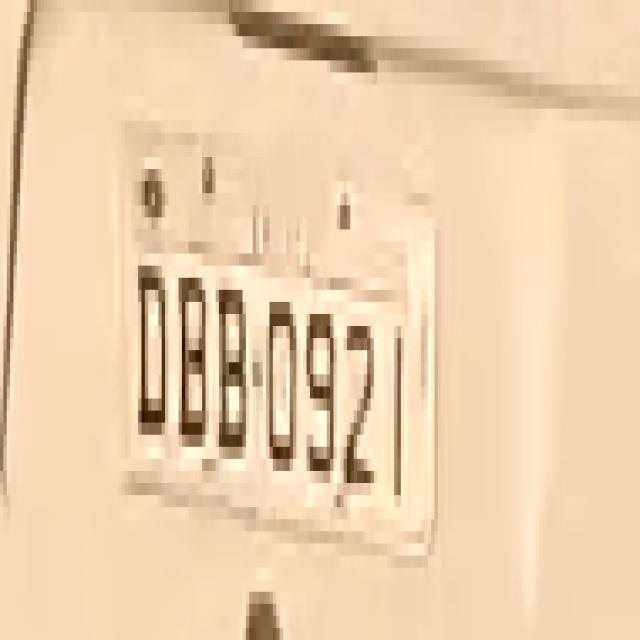Placa_mercosul_carro: (114, 95, 436, 566)
